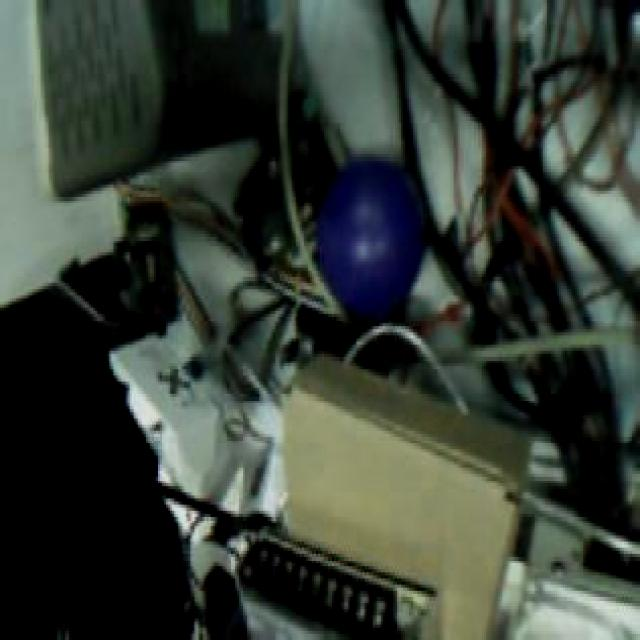BallPurple: (316, 158, 426, 318)
